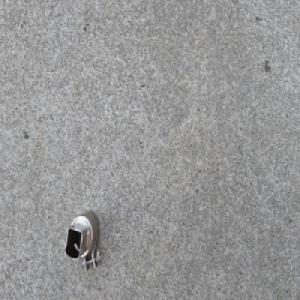MetalPart: (64, 208, 103, 274)
